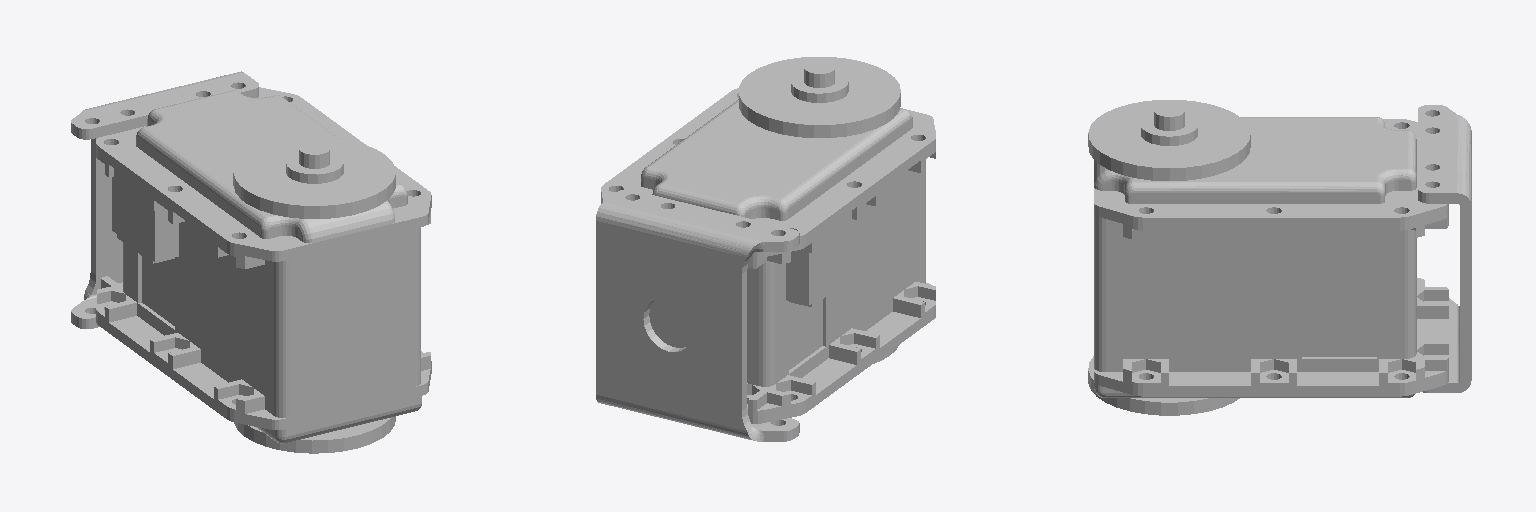
File: tilt_servo.obj
3 renders of one model, left to right at view 1: azimuth 30°, elevation 25°; view 2: azimuth 150°, elevation 25°; view 3: azimuth 270°, elevation 25°, orthographic.
Bounding box in the file's own units: 0.0416 × 0.056 × 0.066.